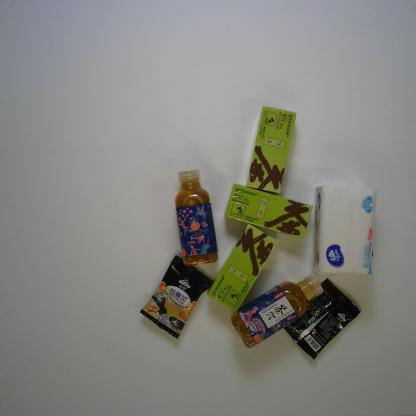Drink: (230, 272, 325, 350), (174, 168, 219, 267)
Instant Drink: (283, 277, 363, 361), (206, 222, 278, 315), (140, 254, 214, 341), (222, 183, 314, 240), (244, 105, 298, 194)
Tissue: (311, 184, 377, 278)
